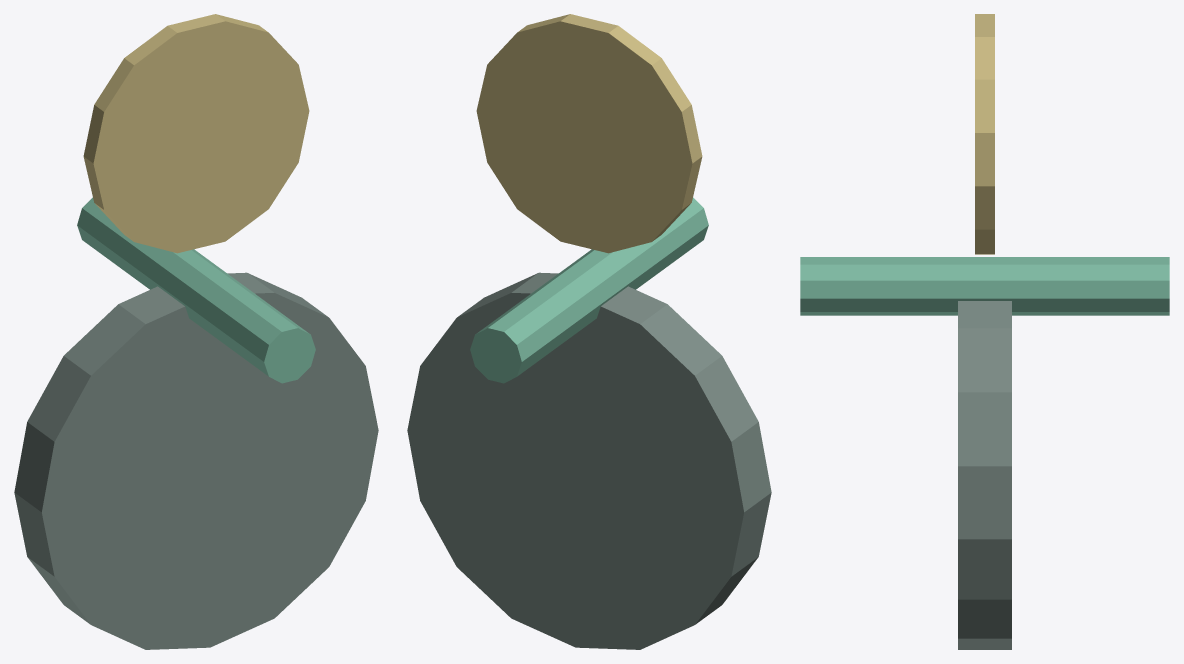
The model's file is chain-hub-eco.glb.
3 views of the same model, side by side, from view 1: azimuth 30°, elevation 25°; view 2: azimuth 150°, elevation 25°; view 3: azimuth 270°, elevation 25° (orthographic).
Parts seen in each view (by area): view 1: base, halo, mast; view 2: base, halo, mast; view 3: mast, base, halo.
Boxes of the visible parts, box(x1,y1,x2,y2) form: base: box(14, 272, 378, 649); halo: box(83, 14, 309, 253); mast: box(77, 197, 315, 383); base: box(407, 272, 771, 649); halo: box(476, 14, 702, 253); mast: box(470, 197, 708, 383); mast: box(800, 257, 1169, 315); base: box(958, 301, 1011, 649); halo: box(975, 14, 994, 254).
Bounding box in the file's own units: 1.56 × 2.72 × 1.5.
